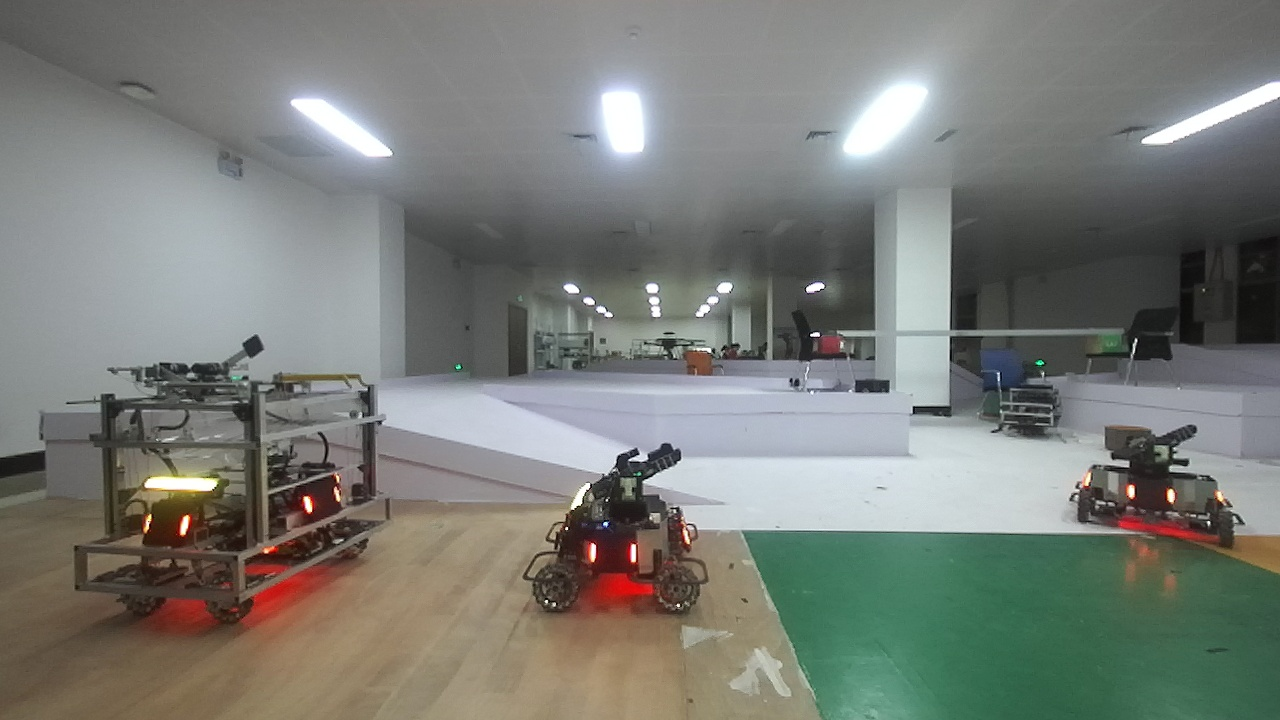car: (74, 360, 385, 627), (519, 443, 721, 620), (1063, 406, 1252, 554)
